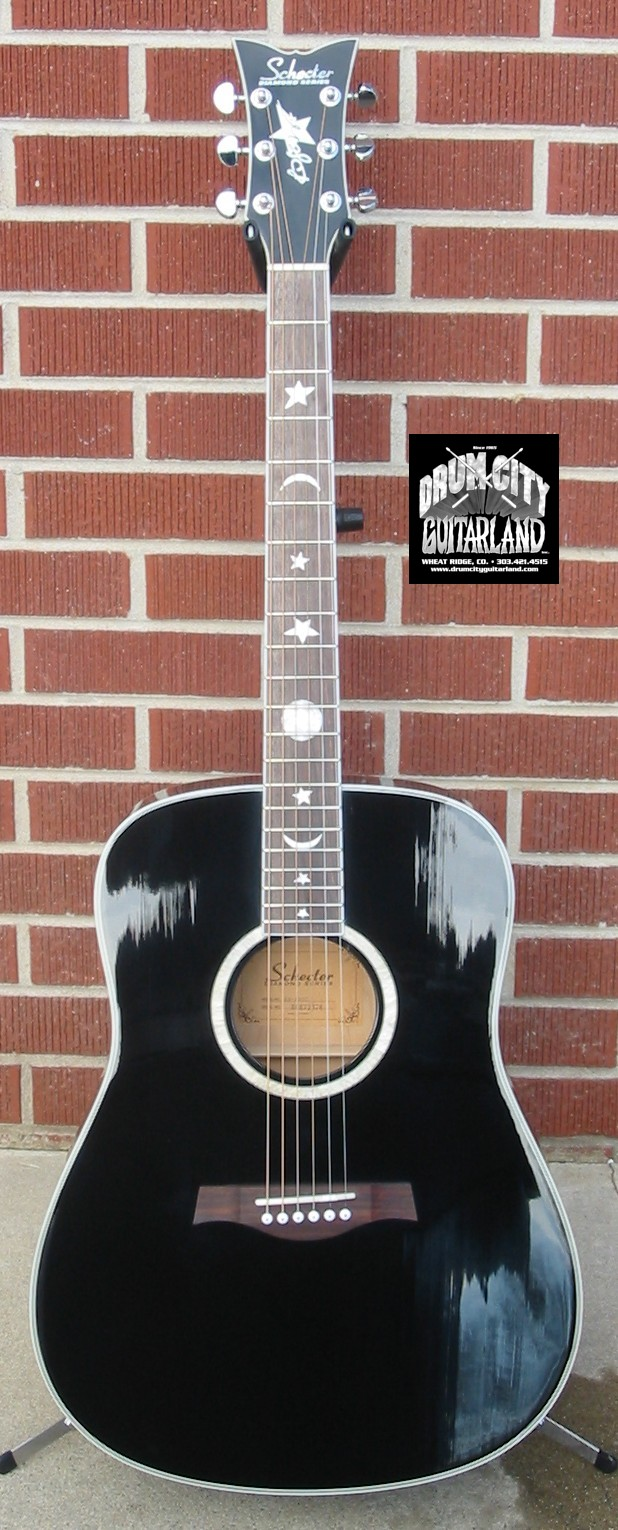guitar: (29, 41, 588, 1502)
